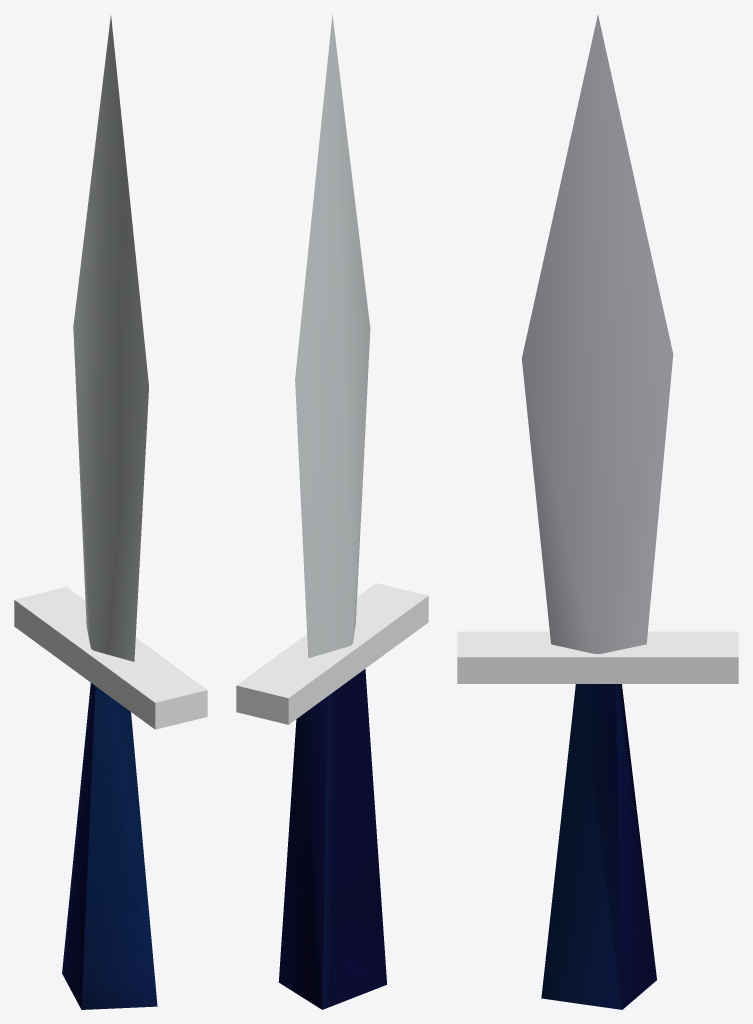
Rendered from dagger.glb.
3 views of the same model, side by side, from view 1: azimuth 30°, elevation 25°; view 2: azimuth 150°, elevation 25°; view 3: azimuth 270°, elevation 25° (orthographic).
Parts seen in each view (by area): view 1: joint_dagger; view 2: joint_dagger; view 3: joint_dagger.
Part boxes in pixels (x1=…): joint_dagger: x1=14, y1=15, x2=207, y2=1009; joint_dagger: x1=236, y1=14, x2=428, y2=1009; joint_dagger: x1=457, y1=15, x2=738, y2=1009.
Size of the model in its own units: 0.328 by 3.64 by 0.9516.
Materials: 4 (1 with a texture image).
